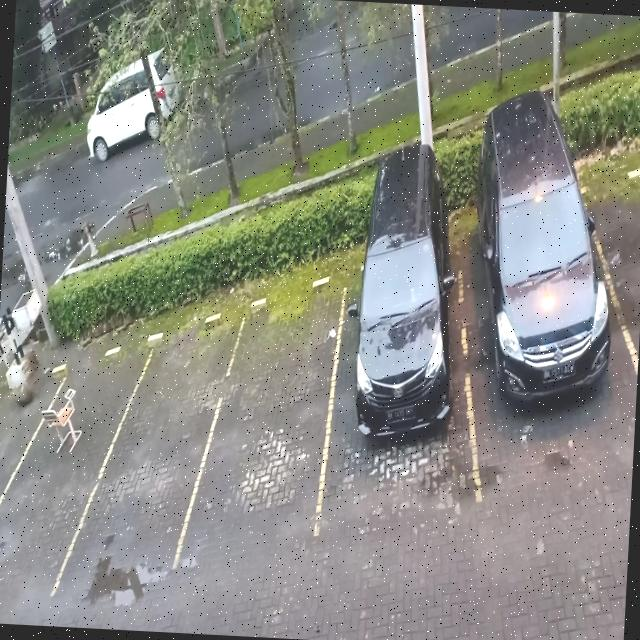empty: (205, 282, 339, 570), (102, 320, 214, 578)
occupied: (452, 160, 625, 508), (314, 228, 472, 545)
